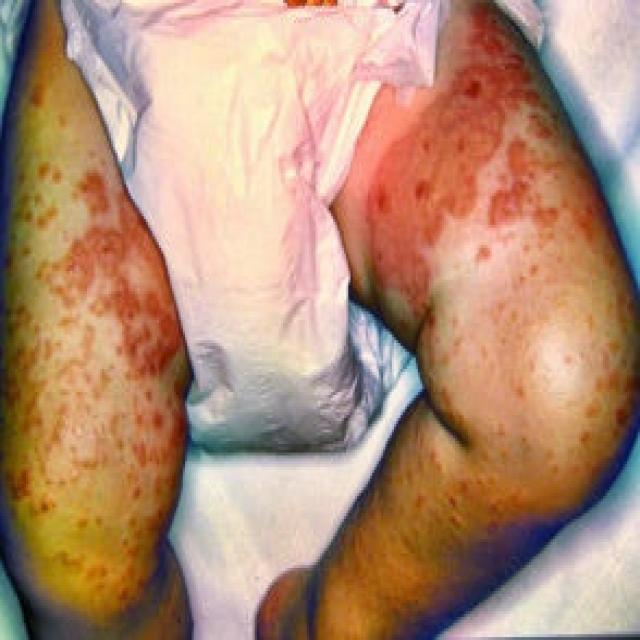Warts-Molluscum-and-other-Viral-Infections: (18, 106, 207, 584), (346, 40, 603, 312)
